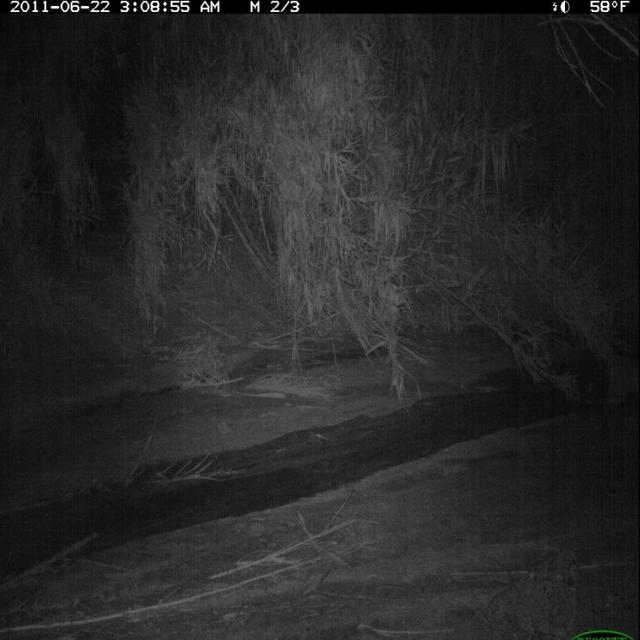bobcat: (600, 340, 640, 426)
